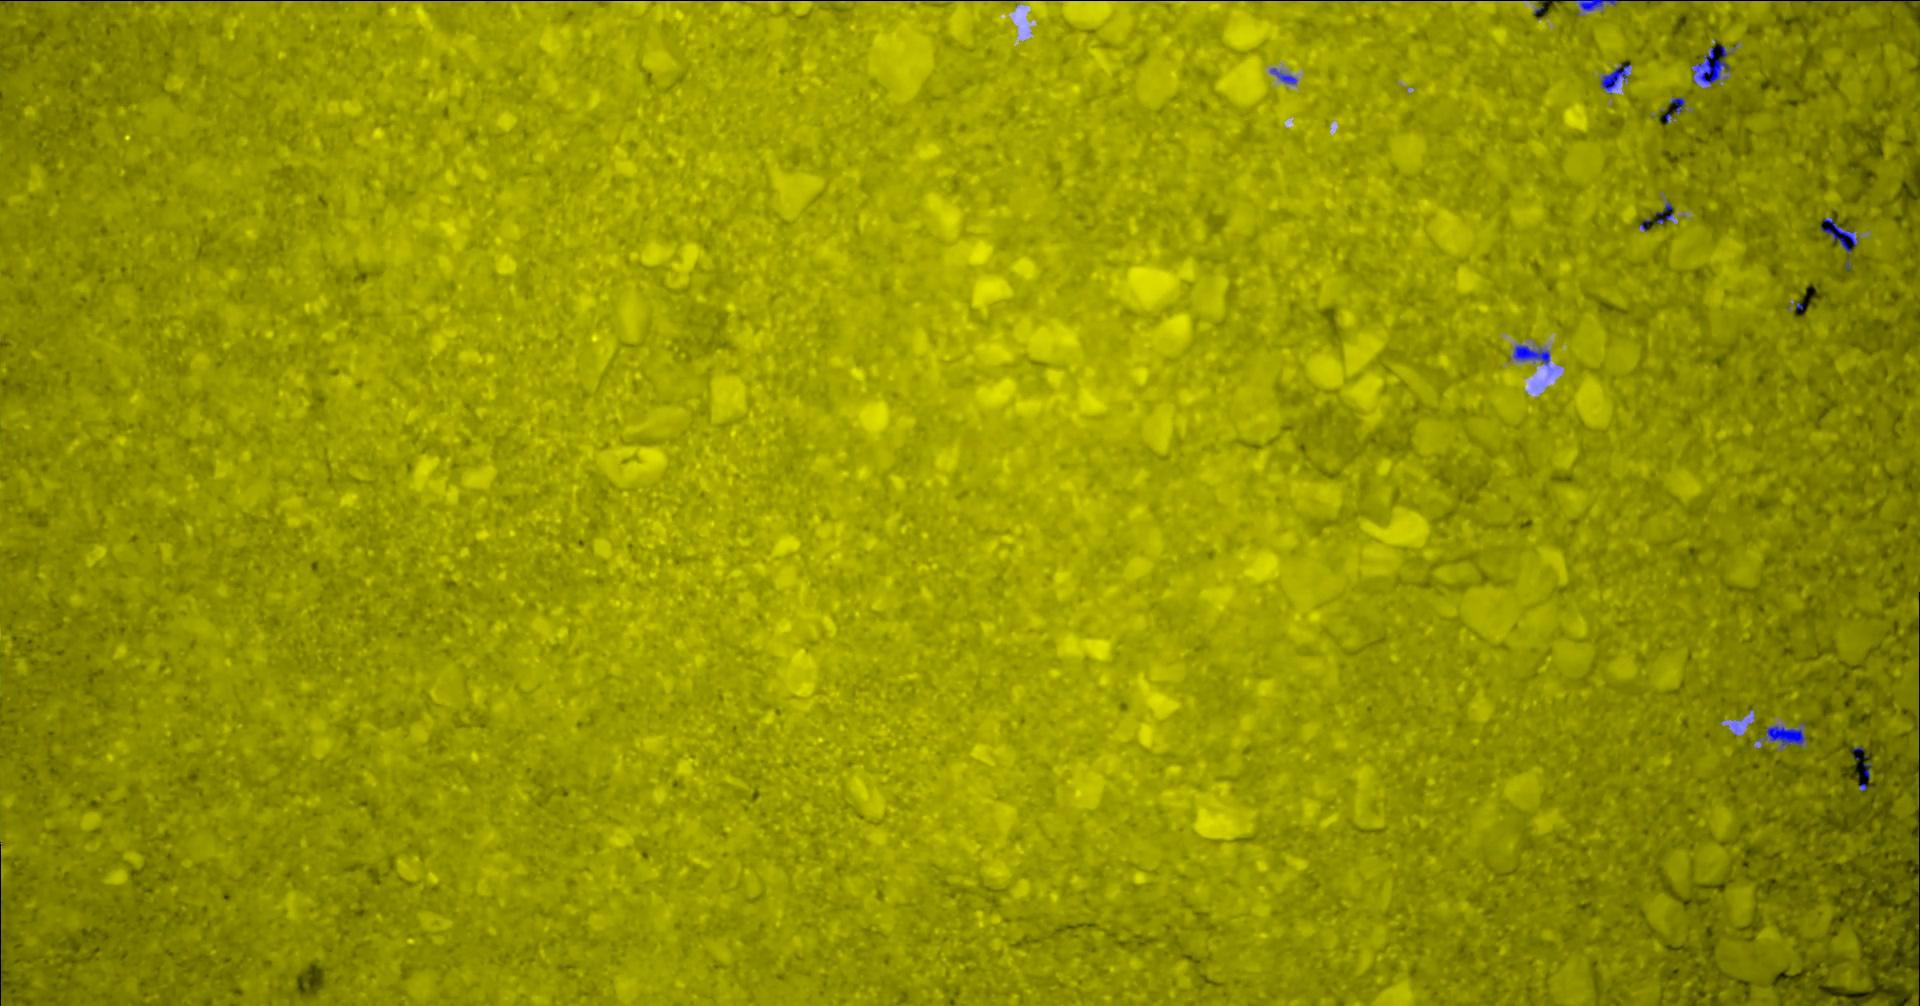ant: (1693, 44, 1731, 83), (1822, 217, 1859, 254), (1759, 725, 1808, 746), (1601, 64, 1630, 93), (1514, 344, 1550, 365), (1577, 0, 1622, 10), (1271, 67, 1298, 84), (1657, 201, 1674, 224), (1671, 97, 1688, 114)
